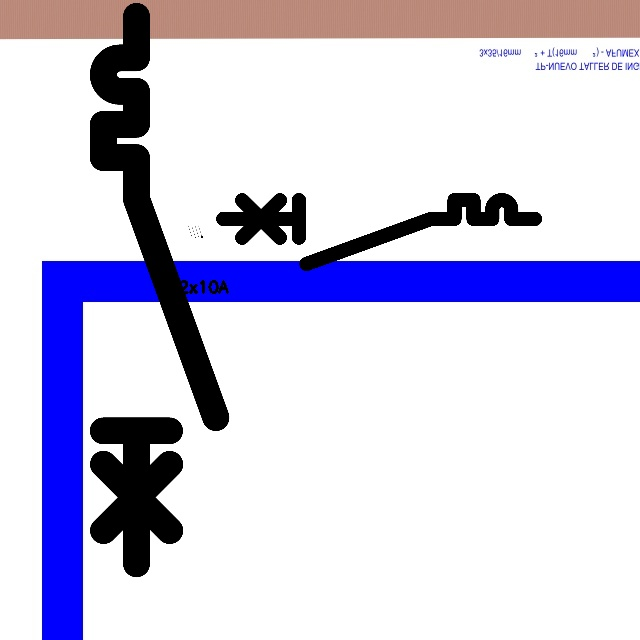interruptor_termomagnetico: (89, 2, 230, 578), (215, 192, 543, 272)
